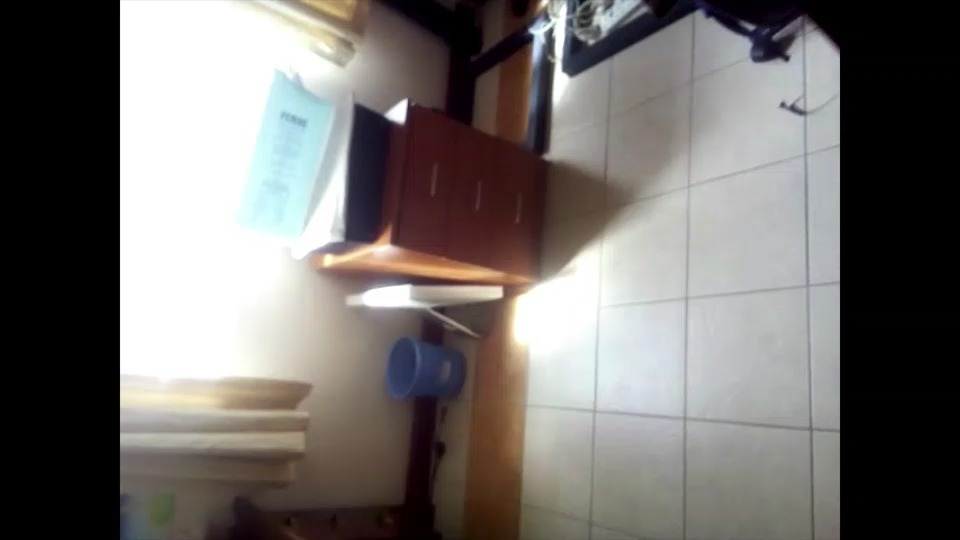wheat_flour_blue_label: (232, 66, 332, 228)
